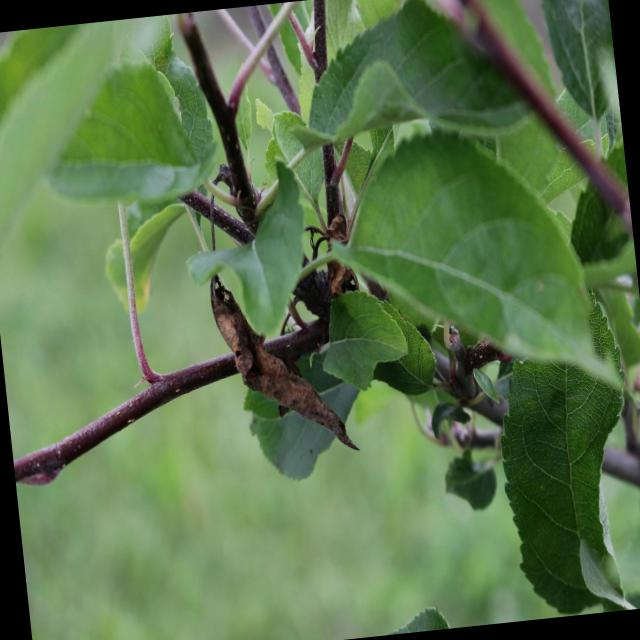-FireBlight-: (203, 259, 374, 451)
